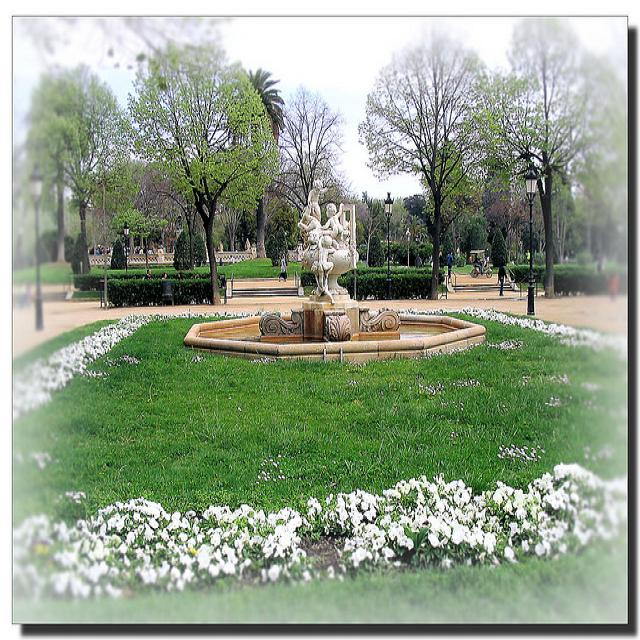motor: (469, 250, 495, 278)
